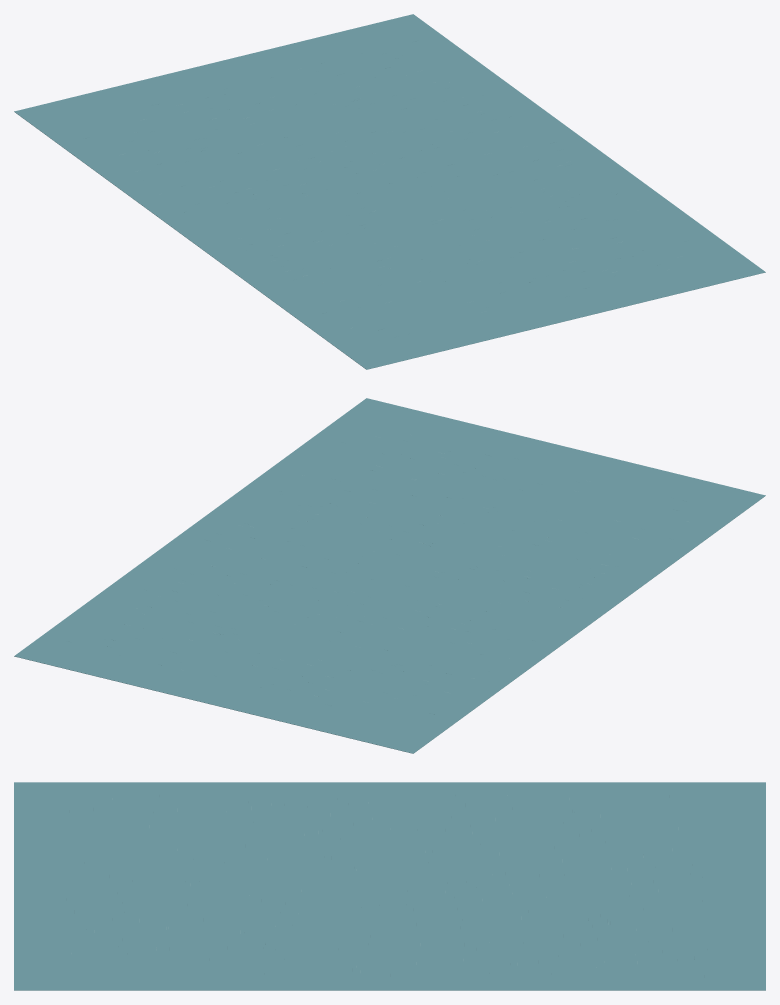
Rendered from OutletCanals.glb.
The picture shows the model from 3 angles, top to bottom: view 1: azimuth 30°, elevation 25°; view 2: azimuth 150°, elevation 25°; view 3: azimuth 270°, elevation 25°; orthographic projection. The views are drawn at different scales.
Visible parts, largest first — view 1: OutletCanals; view 2: OutletCanals; view 3: OutletCanals.
Part boxes in pixels (left/top/right/bottom): OutletCanals: left=14, top=14, right=765, bottom=369; OutletCanals: left=14, top=398, right=765, bottom=753; OutletCanals: left=14, top=782, right=765, bottom=990.
Size of the model in its own units: 170 by 0.117 by 260.
